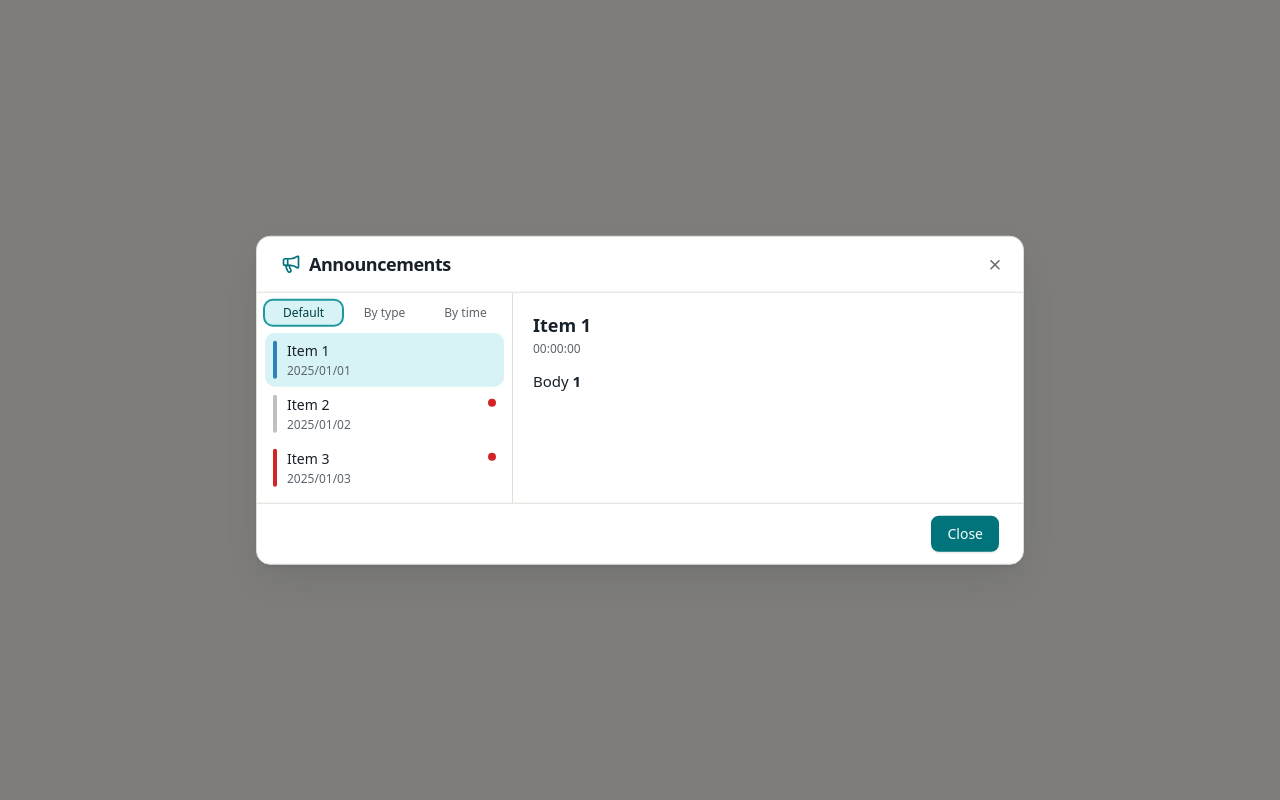
it: AnnouncementsDialog › sorting by type puts the unread critical item first and resets the selection
Click the button "By type".
click(384, 312)  # box [346,300,423,324]
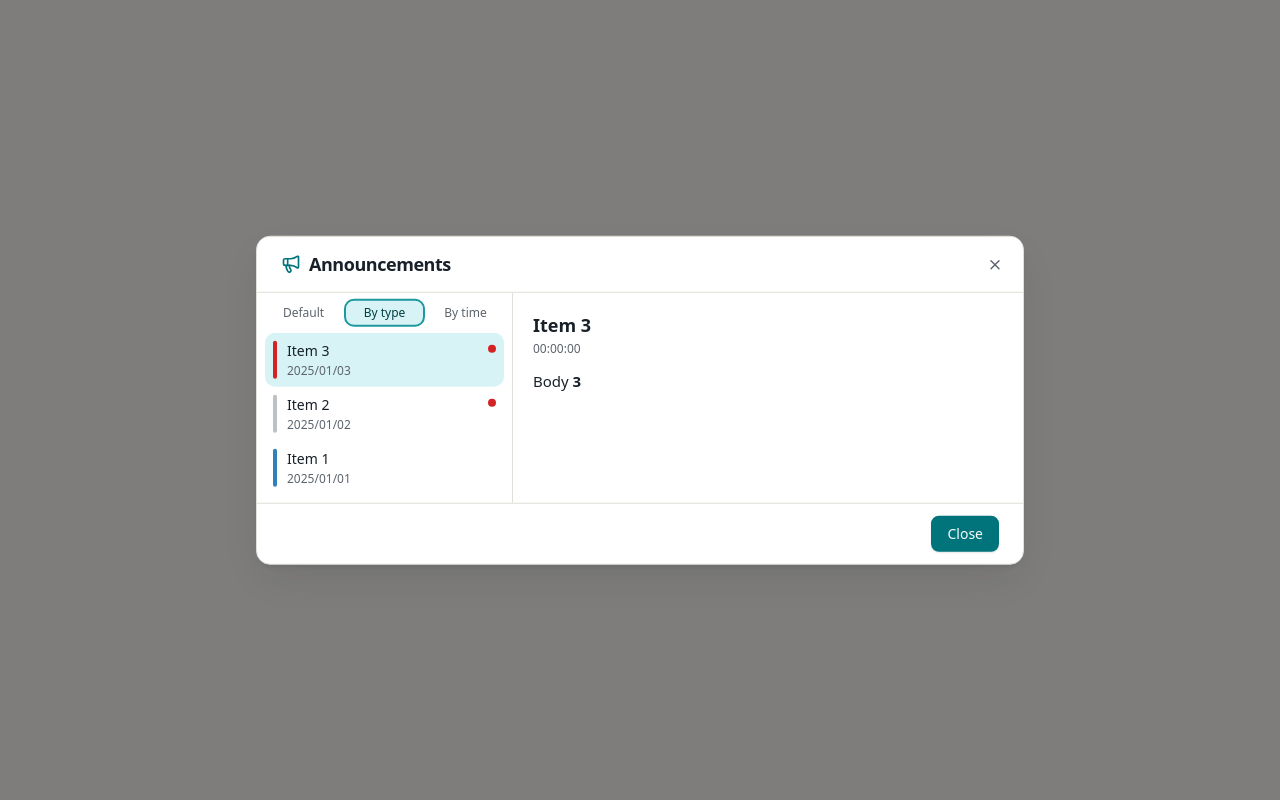
Check: the heading "Item 3" is shown, box [533,312,591,336]
